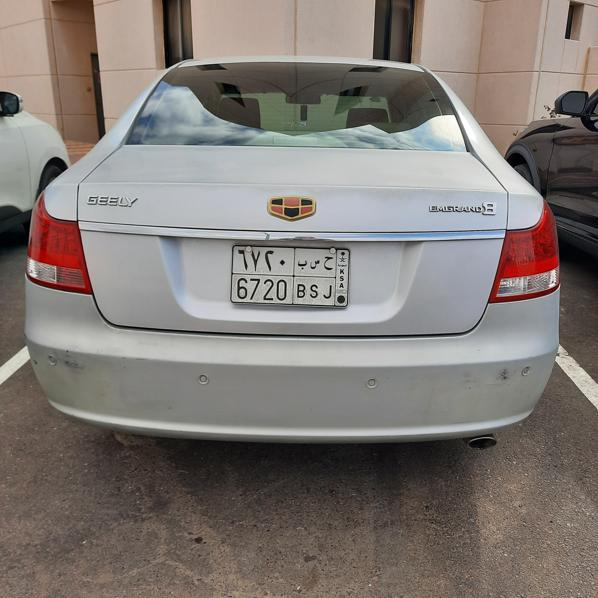numberplate: (232, 245, 349, 305)
